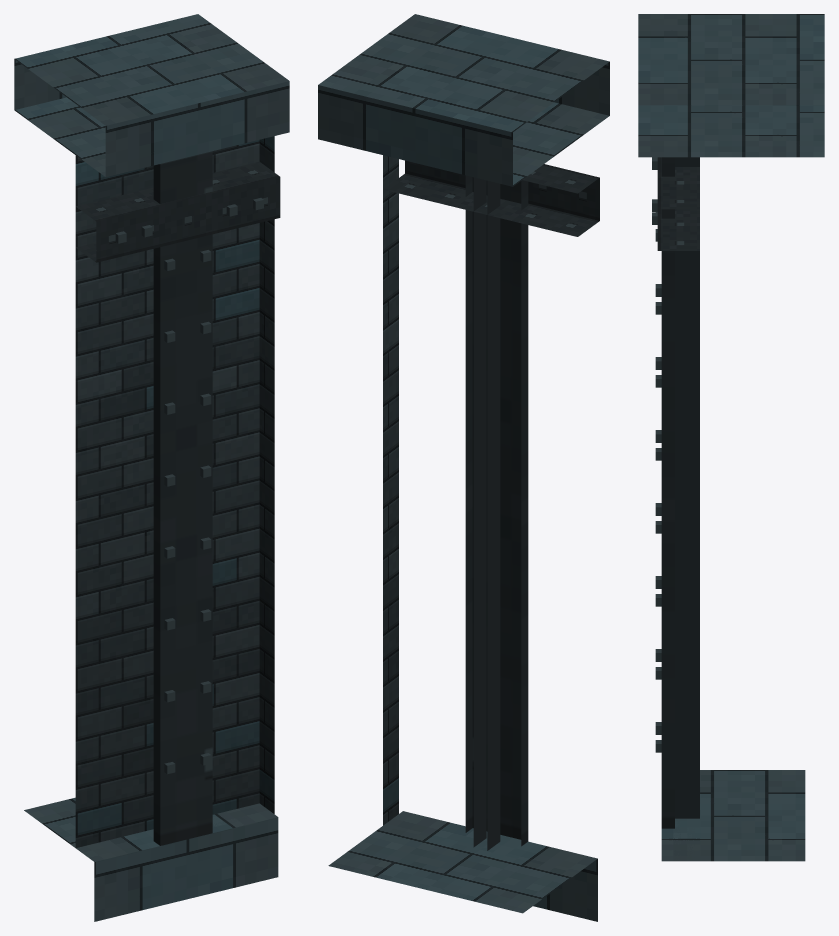
The model's file is T1_Wall_IronRib.fbx.
3 views of the same model, side by side, from view 1: azimuth 30°, elevation 25°; view 2: azimuth 150°, elevation 25°; view 3: azimuth 270°, elevation 25° (orthographic). The views are drawn at different scales.
Visible parts, largest first — view 1: T1_Wall_IronRib; view 2: T1_Wall_IronRib; view 3: T1_Wall_IronRib.
Part boxes in pixels (x1=…): T1_Wall_IronRib: x1=14, y1=14, x2=289, y2=921; T1_Wall_IronRib: x1=318, y1=14, x2=609, y2=921; T1_Wall_IronRib: x1=638, y1=14, x2=824, y2=861.
Size of the model in its own units: 1.12 by 4.7 by 0.97.
